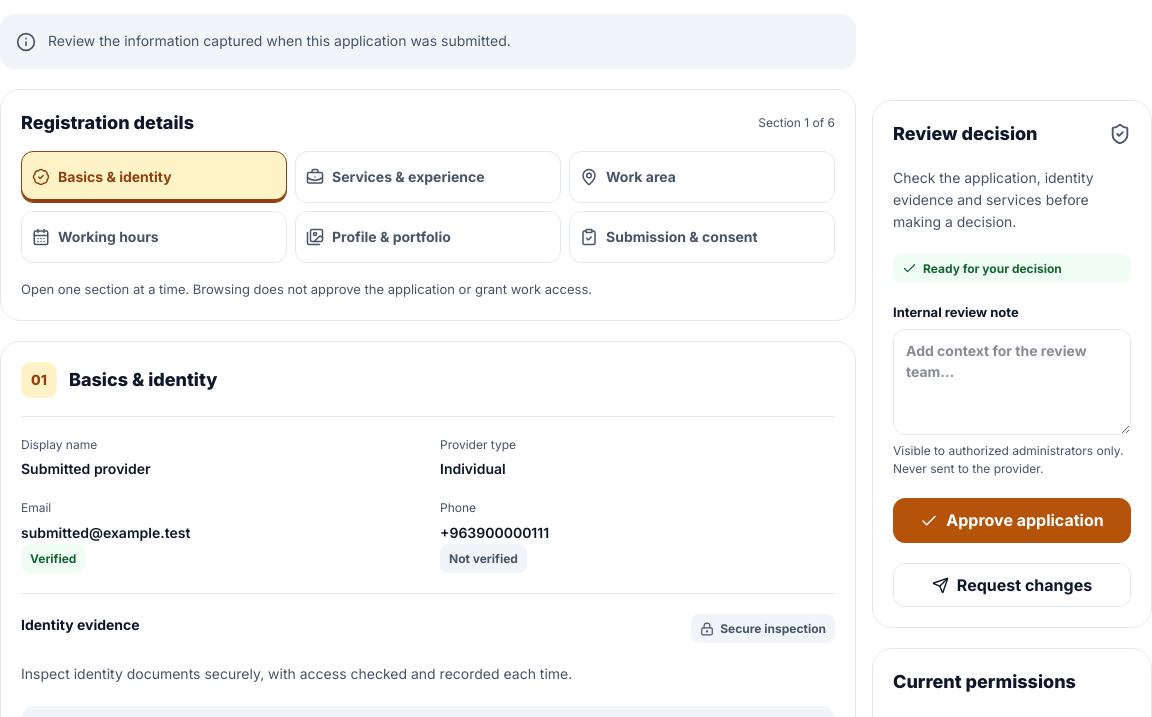
review decisions › requires review acknowledgement and sends exact submission/revision before replacing capabilities with the server answer
(page scrolled)
Click the button with test id "review-approve".
click(1012, 520)  # box [893, 498, 1131, 542]
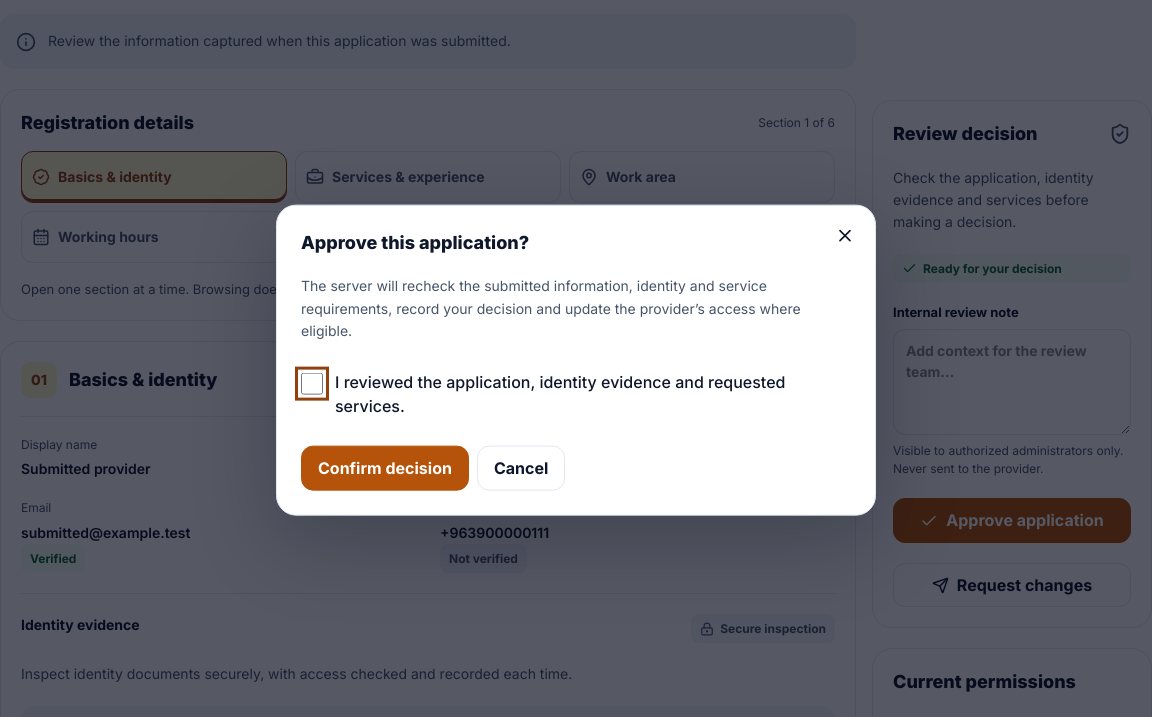
Click the button with test id "review-confirm".
click(385, 468)  # box [301, 446, 469, 490]
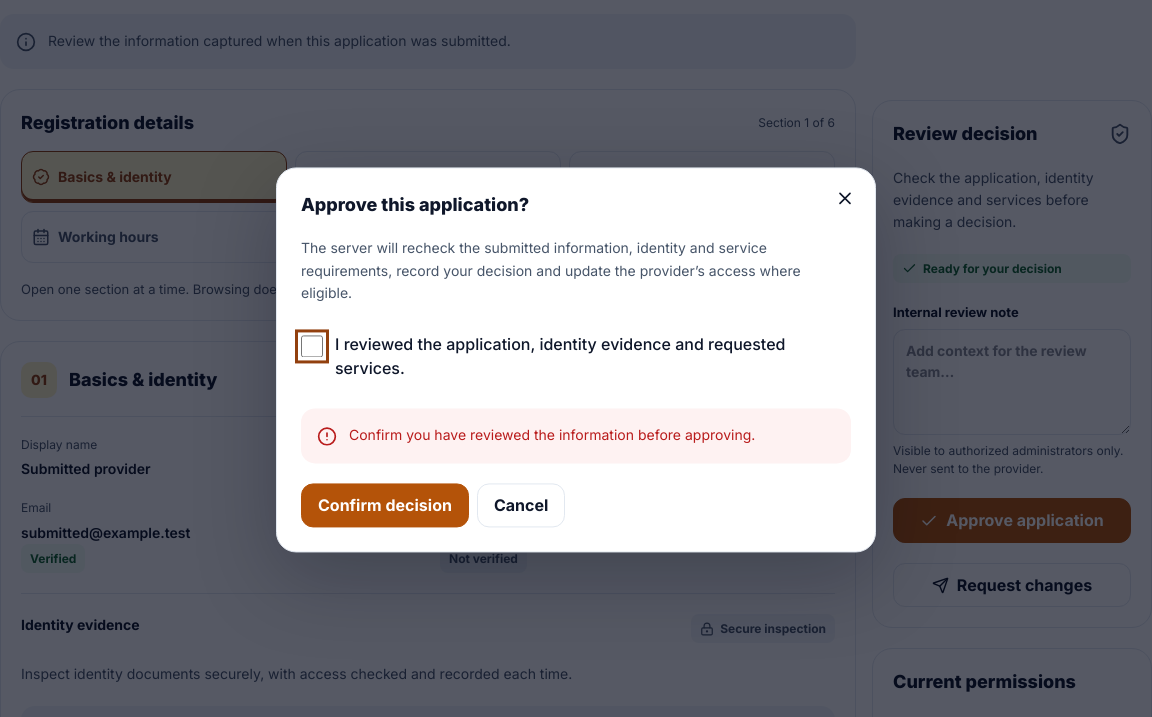
Click the checkbox with test id "review-approval-ack".
click(312, 347)  # box [301, 336, 323, 358]
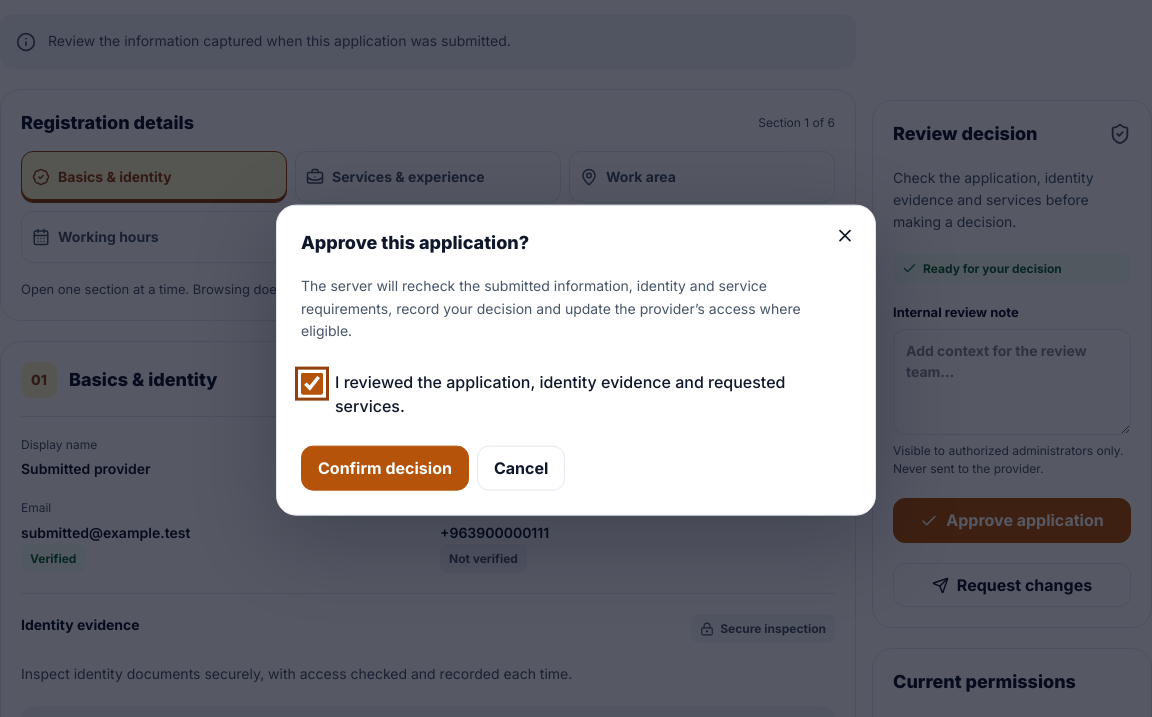
Click the button with test id "review-confirm".
click(385, 468)  # box [301, 446, 469, 490]
(page scrolled)
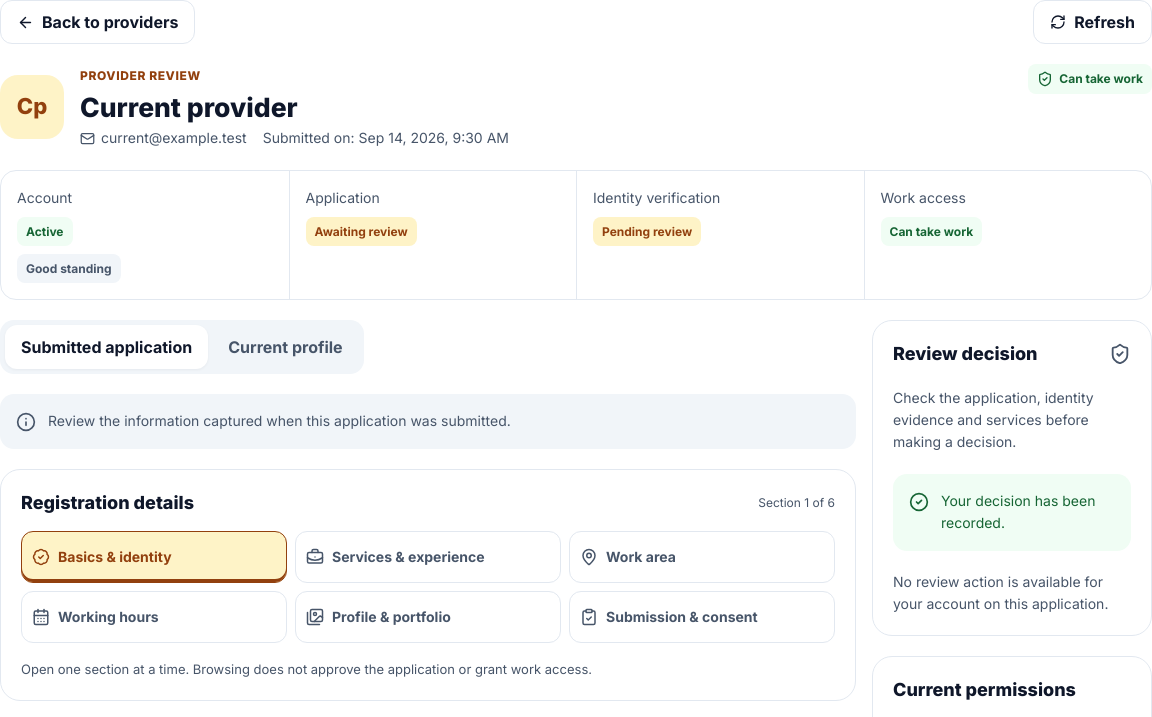
Check: the text "Your decision has been recorded." is shown, box [941, 490, 1115, 534]
Check: the text "Can take work" is shown, box [1028, 64, 1151, 94]
